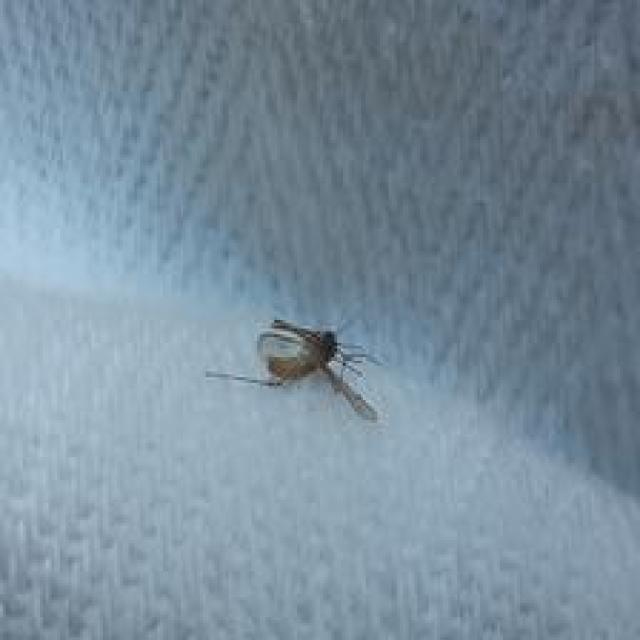Culex: (204, 316, 384, 424)
